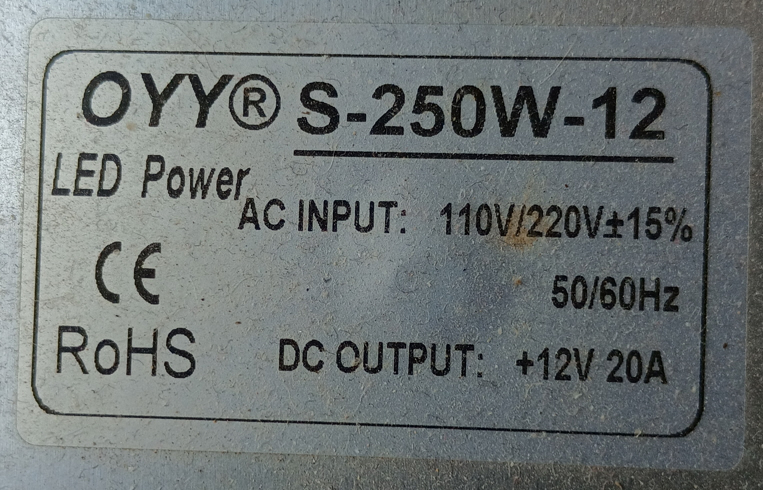p1: (293, 72, 683, 143)
p2: (538, 264, 683, 321)
p3: (532, 340, 679, 388)
p4: (432, 192, 697, 249)
